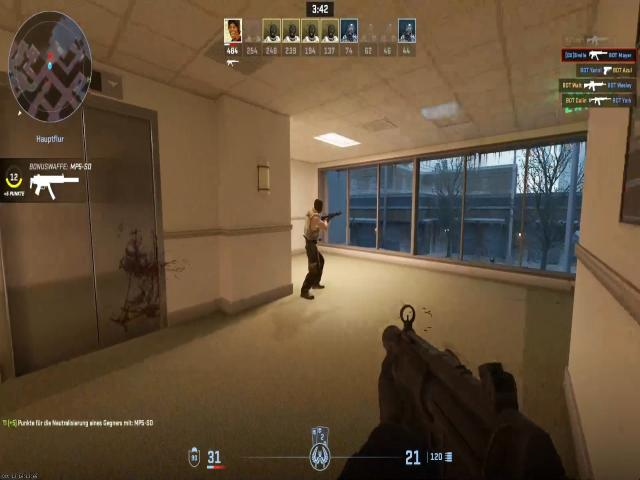T: (299, 209, 335, 250)
T-Head: (310, 196, 326, 221)
